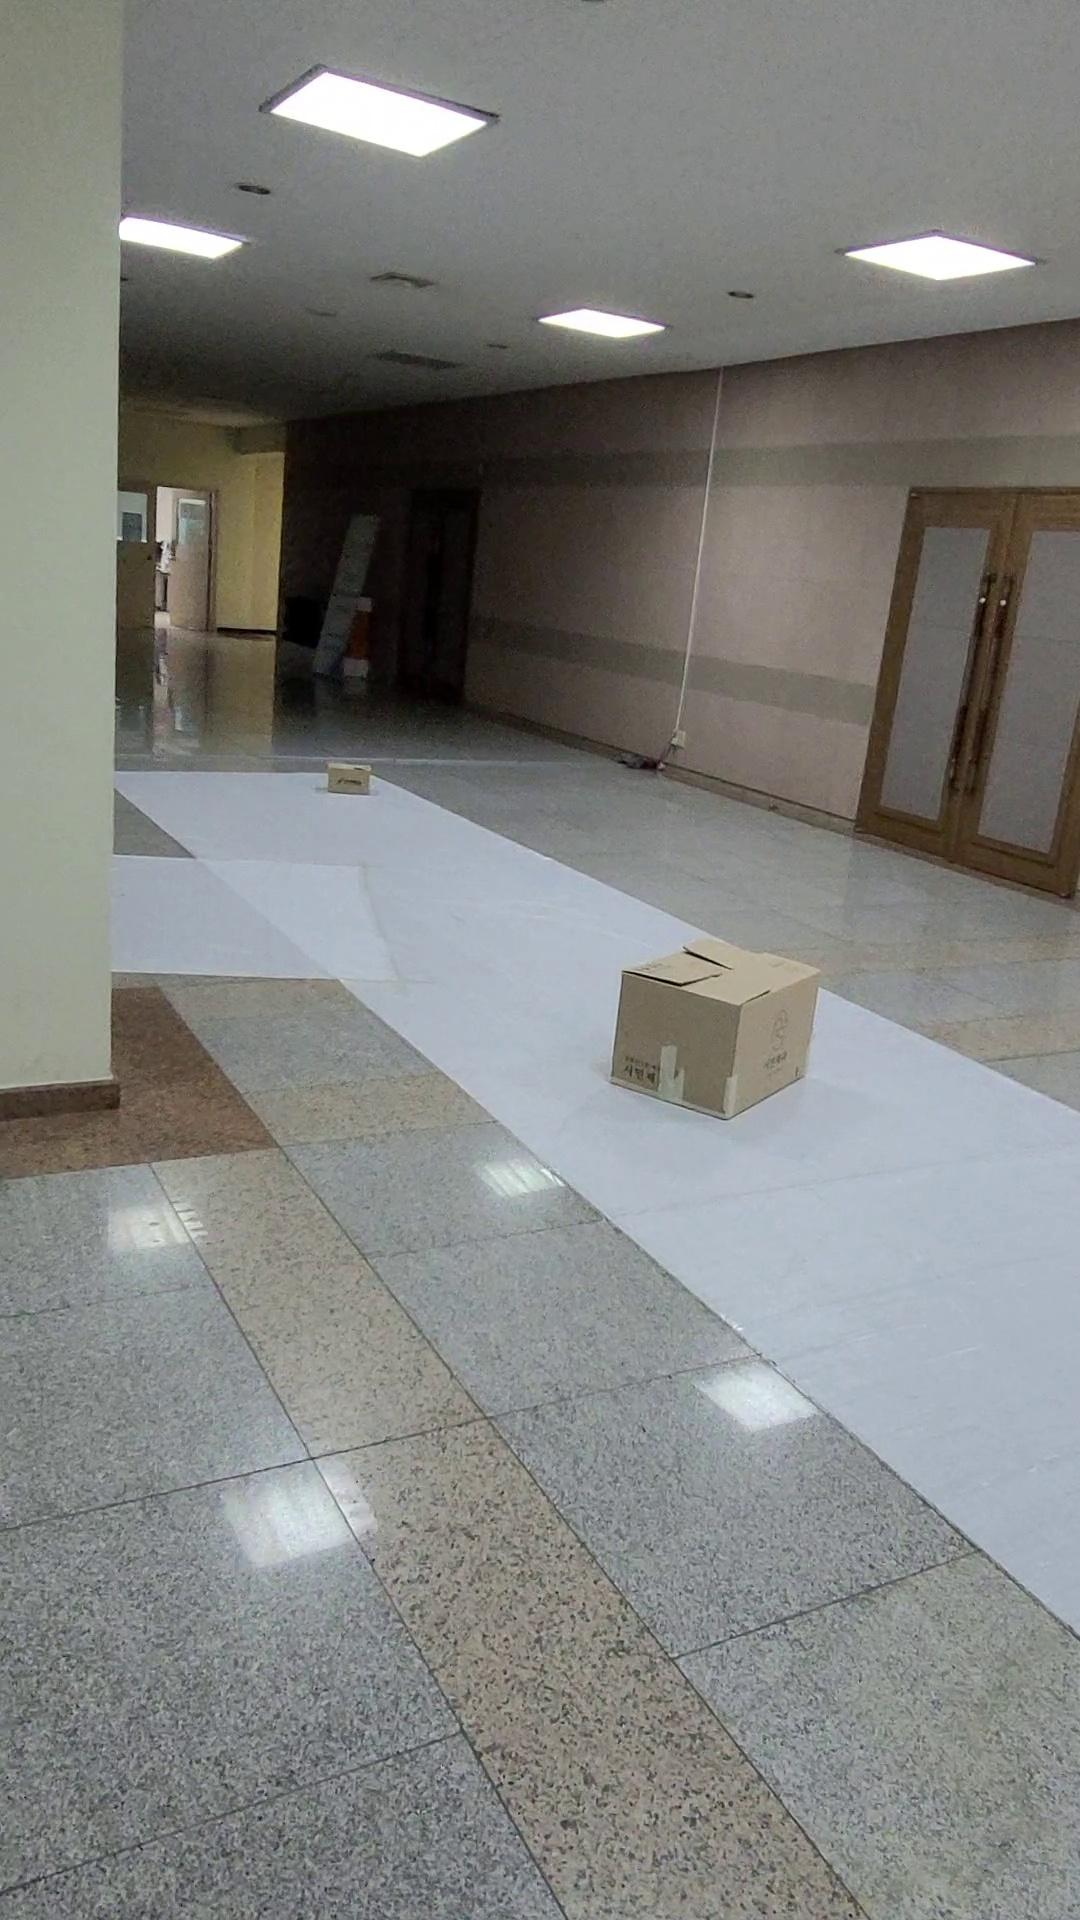Box: (578, 905, 849, 1153), (276, 731, 380, 820)
